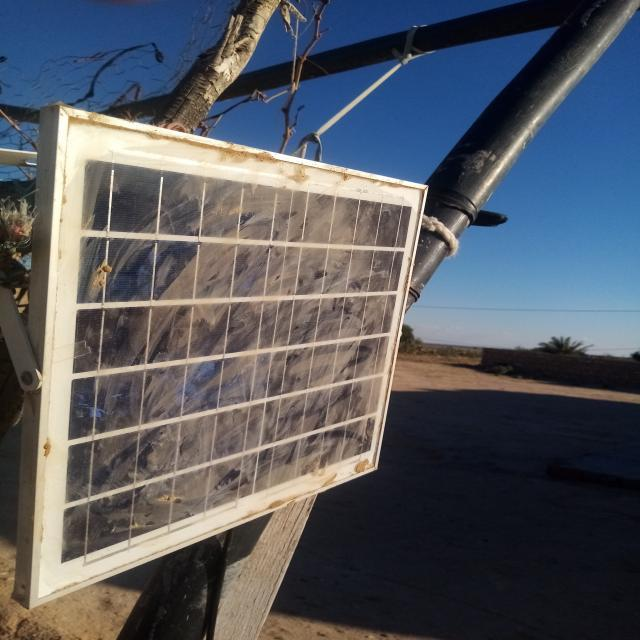faulty: (33, 109, 431, 602)
